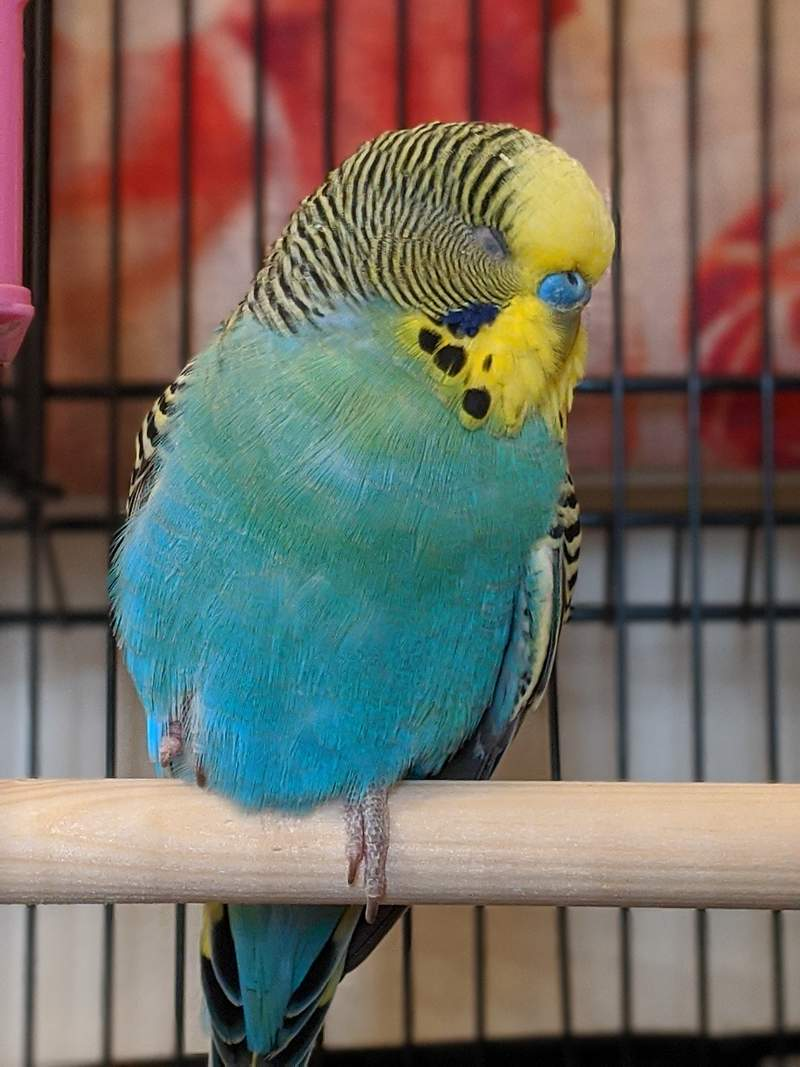budgie: (107, 116, 621, 1067)
